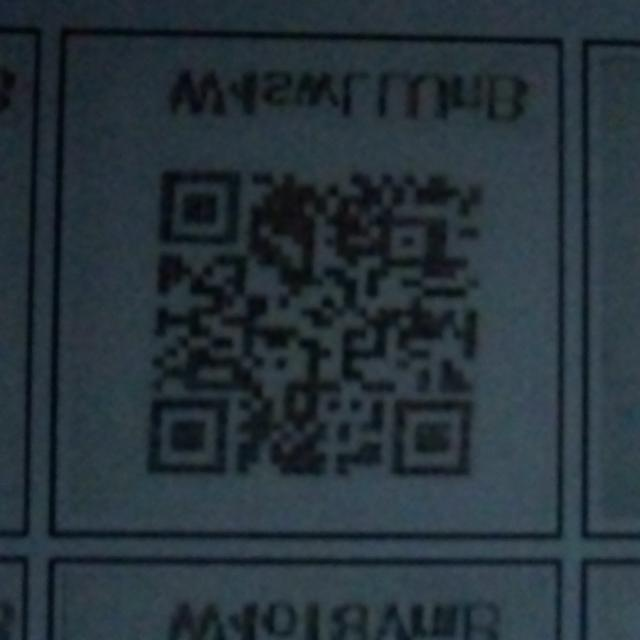qr-code: (128, 152, 522, 492)
